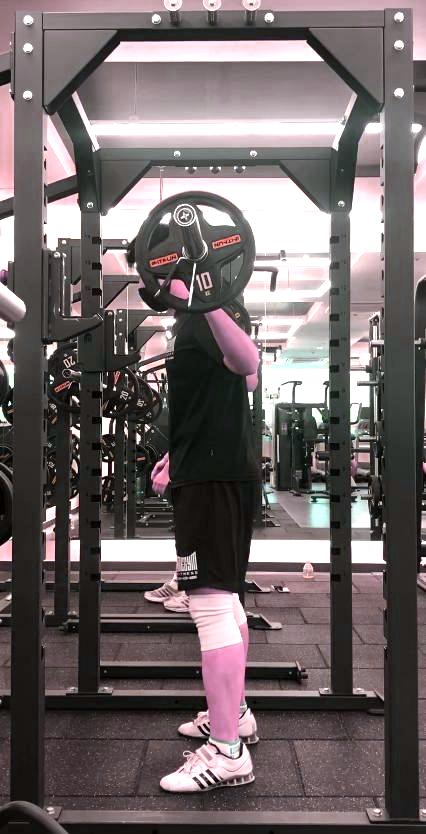Barbell: (172, 201, 199, 229)
